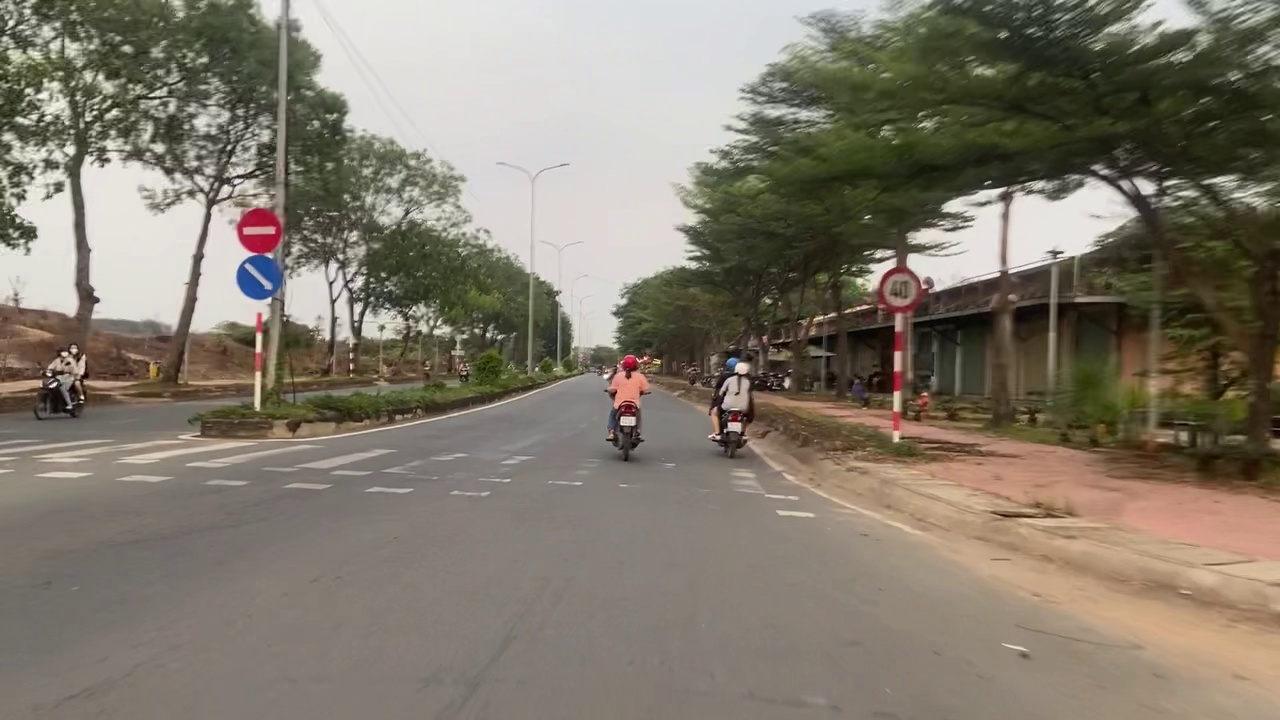cam_nguoc_chieu: (235, 208, 282, 255)
gioi_han_40km: (876, 267, 923, 315)
huong_phai_di_vong: (236, 256, 283, 301)
